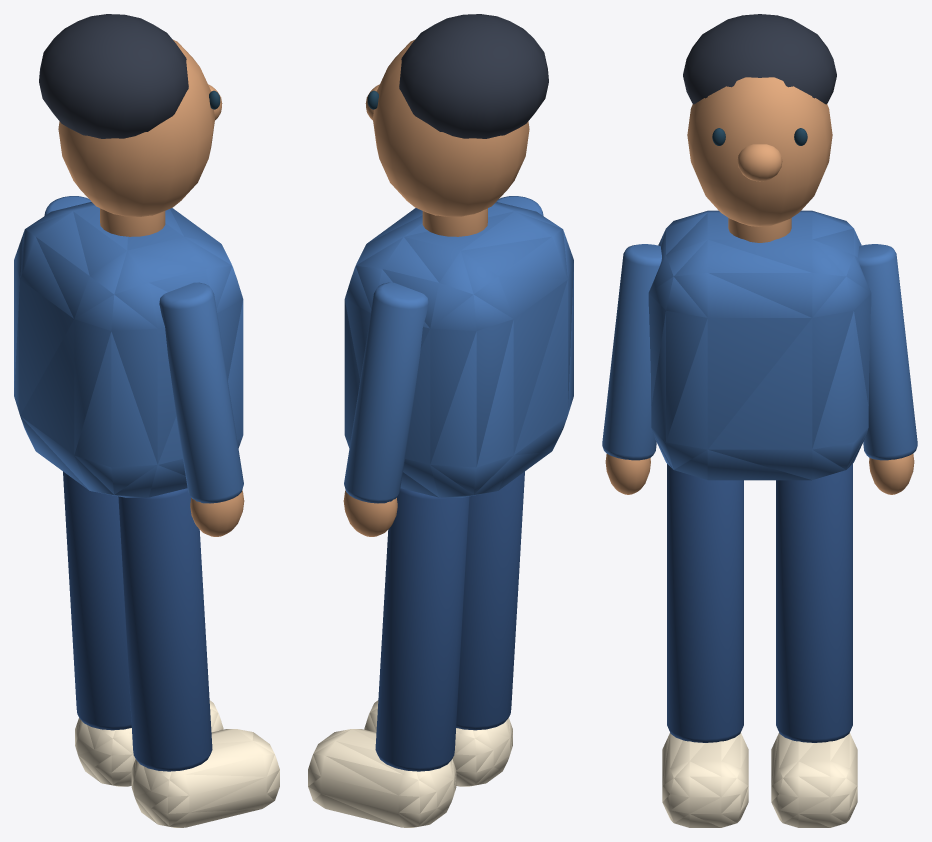
Rendered from Walker.fbx.
3 views of the same model, side by side, from view 1: azimuth 30°, elevation 25°; view 2: azimuth 150°, elevation 25°; view 3: azimuth 270°, elevation 25° (orthographic). The views are drawn at different scales.
Visible parts, largest first — view 1: GEO-Body, GEO-LegL, GEO-LegR; view 2: GEO-Body, GEO-LegR, GEO-LegL; view 3: GEO-Body, GEO-LegL, GEO-LegR.
Boxes of the visible parts, <box> form: GEO-Body: <box>14,14,244,536</box>; GEO-LegL: <box>118,488,279,827</box>; GEO-LegR: <box>63,471,223,786</box>; GEO-Body: <box>343,14,573,536</box>; GEO-LegR: <box>308,488,469,827</box>; GEO-LegL: <box>364,471,524,786</box>; GEO-Body: <box>602,14,917,494</box>; GEO-LegL: <box>662,464,748,827</box>; GEO-LegR: <box>771,464,857,827</box>.
Size of the model in its own units: 0.475 by 1.84 by 0.6946.
